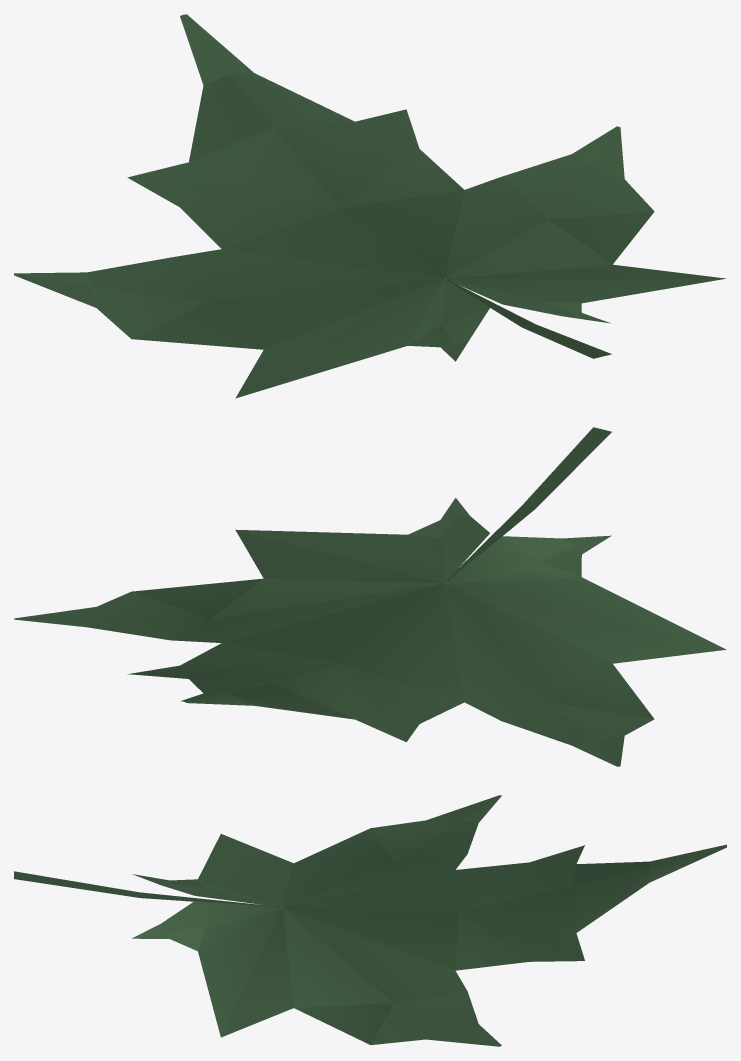
Rendered from trees-leaves-maple-leaf_v1.glb.
3 renders of one model, top to bottom at view 1: azimuth 30°, elevation 25°; view 2: azimuth 150°, elevation 25°; view 3: azimuth 270°, elevation 25°, orthographic. The views are drawn at different scales.
Parts seen in each view (by area): view 1: Maple Leaf_v1; view 2: Maple Leaf_v1; view 3: Maple Leaf_v1.
Boxes of the visible parts, bbox=[...] form: Maple Leaf_v1: bbox=[14, 14, 725, 398]; Maple Leaf_v1: bbox=[14, 427, 726, 766]; Maple Leaf_v1: bbox=[14, 795, 726, 1046].
Bounding box in the file's own units: 0.1252 × 0.0212 × 0.15.
